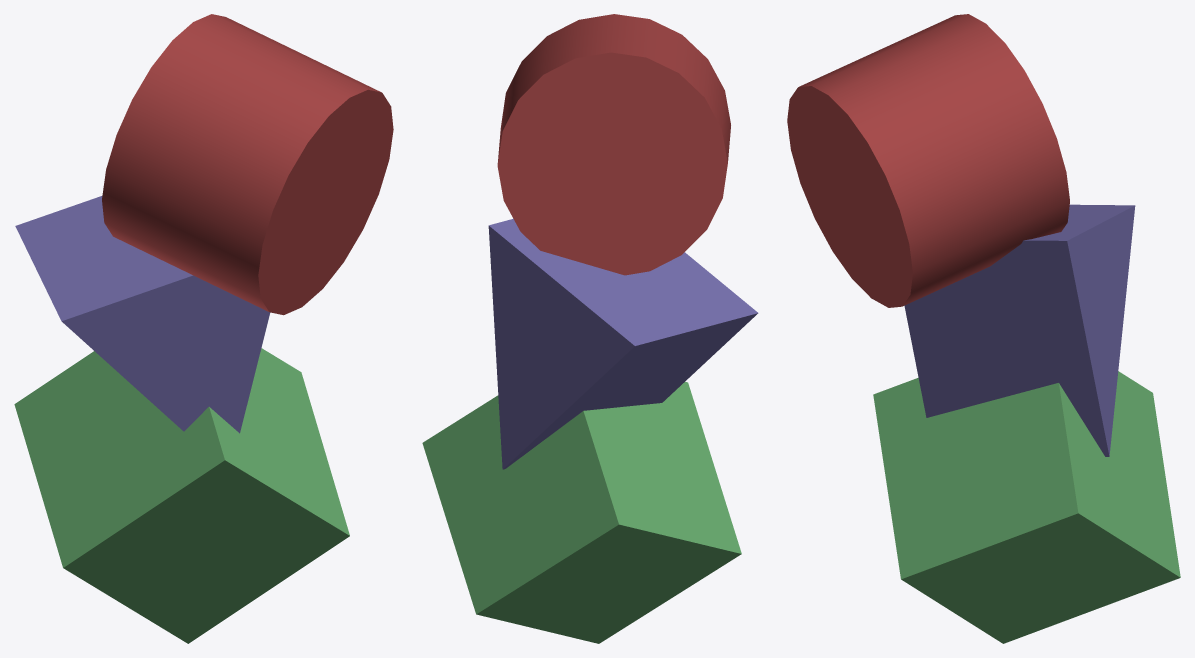
Rendered from Sculpture2.fbx.
The picture shows the model from 3 angles, left to right: view 1: azimuth 30°, elevation 25°; view 2: azimuth 150°, elevation 25°; view 3: azimuth 270°, elevation 25°; orthographic projection. The views are drawn at different scales.
Parts seen in each view (by area): view 1: pCube1, pCylinder1, pCube2; view 2: pCube1, pCylinder1, pCube2; view 3: pCube1, pCylinder1, pCube2.
Part boxes in pixels (box(x1,y1,x2,y2)): pCube1: box(14, 348, 349, 643); pCylinder1: box(102, 14, 393, 315); pCube2: box(15, 196, 270, 433); pCube1: box(422, 382, 741, 643); pCylinder1: box(497, 14, 730, 275); pCube2: box(488, 218, 758, 469); pCube1: box(873, 371, 1180, 643); pCylinder1: box(787, 14, 1069, 307); pCube2: box(904, 204, 1135, 456).
Bounding box in the file's own units: 1.66 × 3.3 × 1.9.
